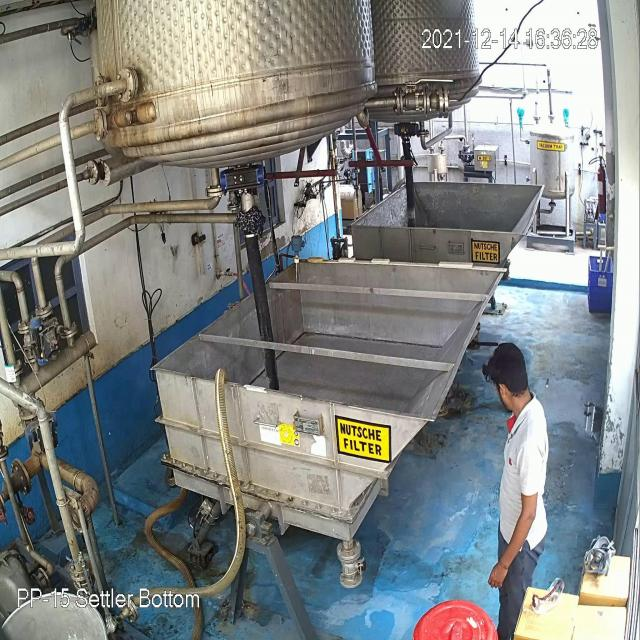No_Gloves: (478, 489, 540, 588)
